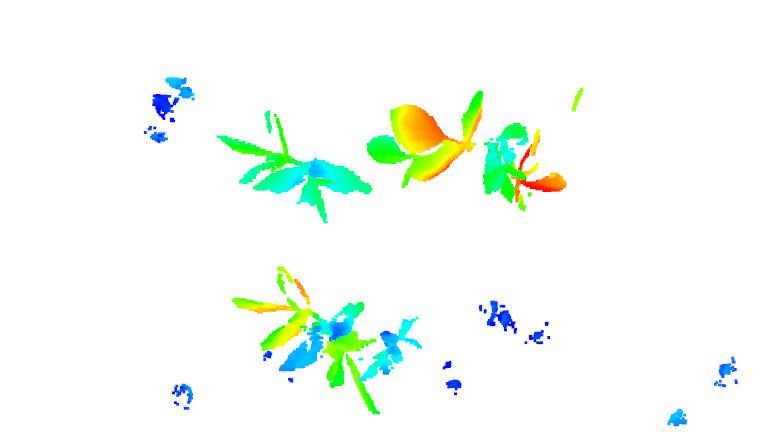mungbean: (222, 256, 422, 415), (362, 85, 576, 215), (213, 99, 377, 222)
